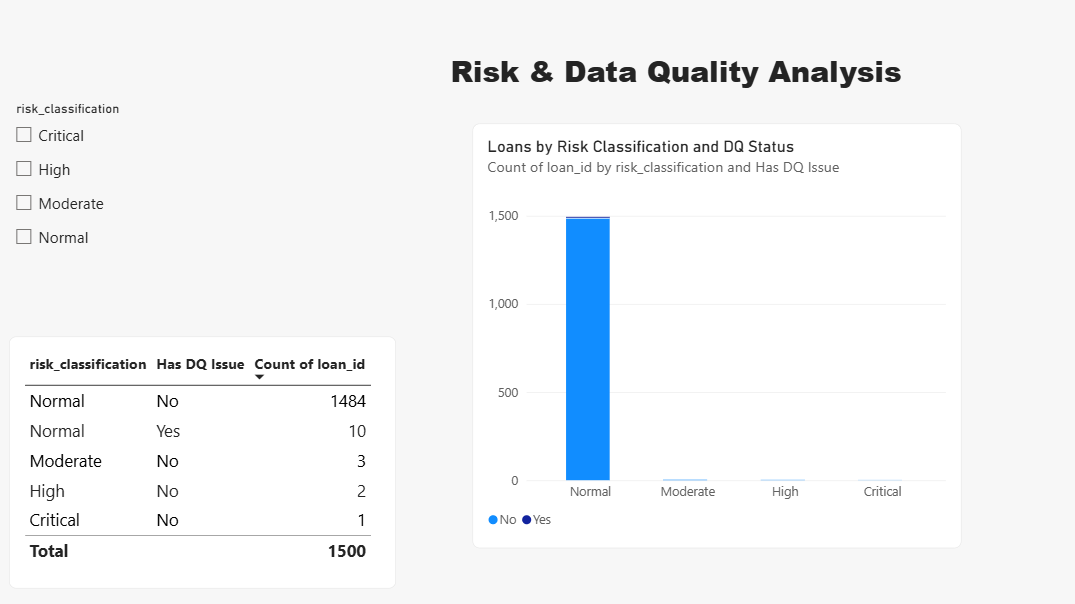

The page's visual inventory and layout, read from the dashboard file:
{"tool":"powerbi","page":{"name":"Risk & Data Quality Analysis","canvas":[1920,1080],"ordinal":1},"visuals":[{"type":"tableEx","fields":{"Values":["public vw_loan_risk.risk_classification","public loan_accounts.Has DQ Issue","public loan_accounts.loan_id"]},"box":[26.7,391.7,430,280],"z":0},{"type":"columnChart","title":"Loans by Risk Classification and DQ Status","fields":{"Category":["public vw_loan_risk.risk_classification"],"Y":["CountNonNull(public loan_accounts.loan_id)"],"Series":["public loan_accounts.Has DQ Issue"]},"box":[541.7,155,543.3,471.7],"z":1000},{"type":"slicer","fields":{"Values":["public vw_loan_risk.risk_classification"]},"box":[26.7,130,280,280],"z":2000},{"type":"textbox","box":[325,55,781.7,75],"z":3000}]}

Visuals, with their boxes in screenshot pixels (x1, y1, x2, y2), scaled from the page's 1920x1080 canvas onto the 1075x604 screenshot:
tableEx - public vw_loan_risk.risk_classification x public loan_accounts.Has DQ Issue: l=15, t=219, r=256, b=376
"Loans by Risk Classification and DQ Status" columnChart: l=303, t=87, r=607, b=350
slicer - public vw_loan_risk.risk_classification: l=15, t=73, r=172, b=229
textbox: l=182, t=31, r=620, b=73
